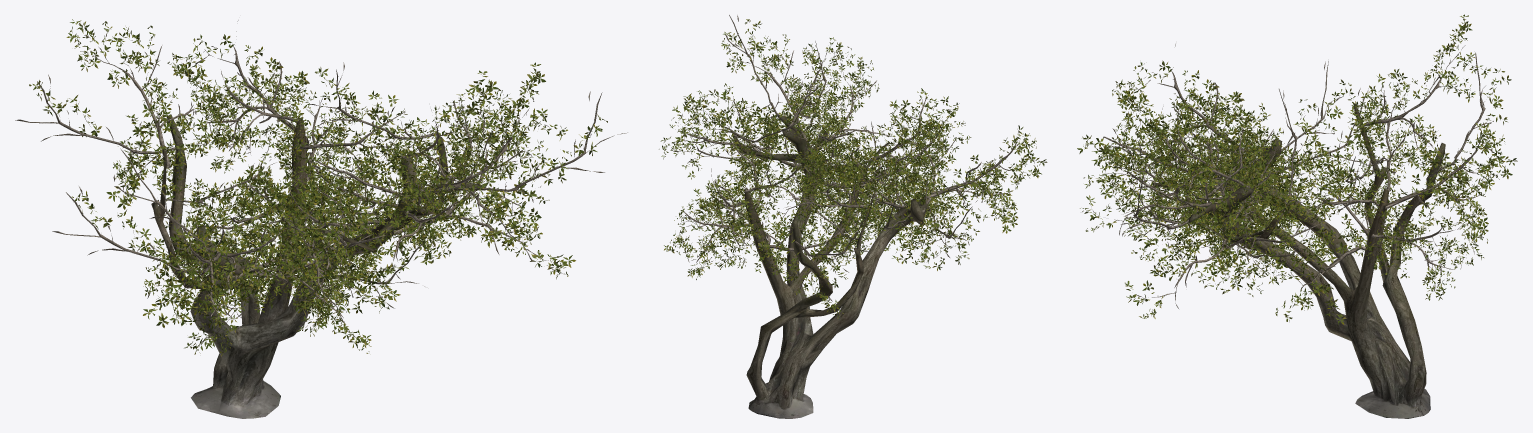
The model's file is island_tree_02_hi.glb.
3 renders of one model, left to right at view 1: azimuth 30°, elevation 25°; view 2: azimuth 150°, elevation 25°; view 3: azimuth 270°, elevation 25°, orthographic. The views are drawn at different scales.
Parts seen in each view (by area): view 1: island_tree_02_LOD0; view 2: island_tree_02_LOD0; view 3: island_tree_02_LOD0.
Part boxes in pixels (left/top/right/bottom): island_tree_02_LOD0: left=15, top=19, right=627, bottom=418; island_tree_02_LOD0: left=659, top=15, right=1047, bottom=418; island_tree_02_LOD0: left=1077, top=14, right=1517, bottom=418.
Bounding box in the file's own units: 4.21 × 3.4 × 4.07.
Materials: 3 (3 with a texture image).
